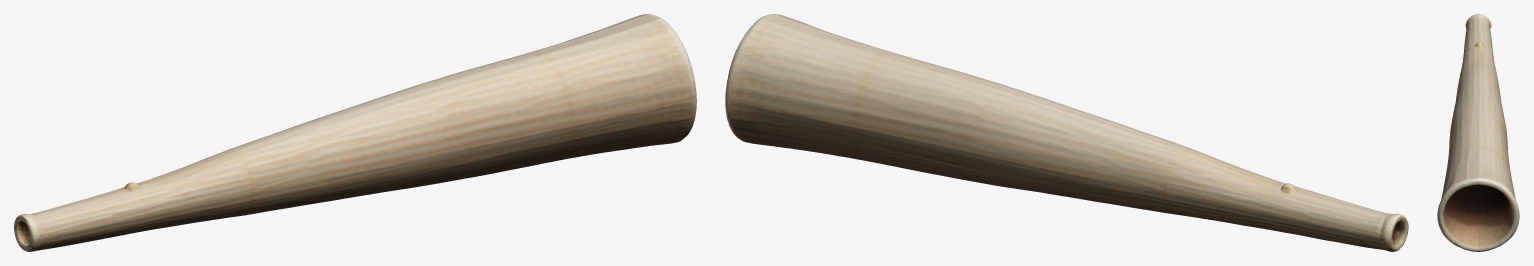
3 views of the same model, side by side, from view 1: azimuth 30°, elevation 25°; view 2: azimuth 150°, elevation 25°; view 3: azimuth 270°, elevation 25° (orthographic). The views are drawn at different scales.
Parts seen in each view (by area): view 1: world; view 2: world; view 3: world.
Part boxes in pixels (left/top/right/bottom): world: left=14, top=14, right=696, bottom=251; world: left=725, top=14, right=1408, bottom=251; world: left=1437, top=14, right=1519, bottom=251.
Bounding box in the file's own units: 1 × 0.1781 × 0.1804.
1 material, 1 textured.
